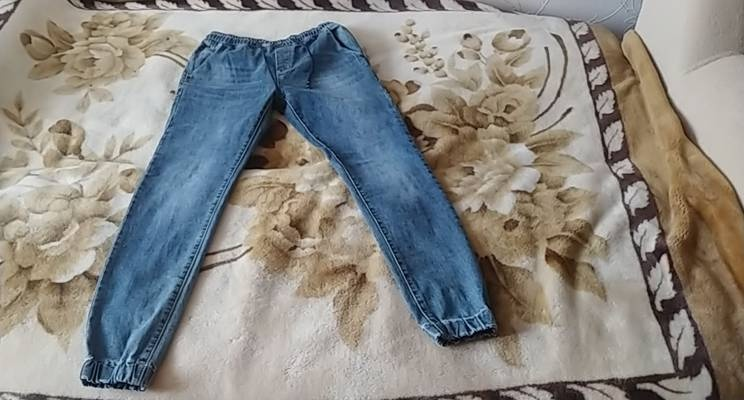Pants: (81, 25, 507, 384)
